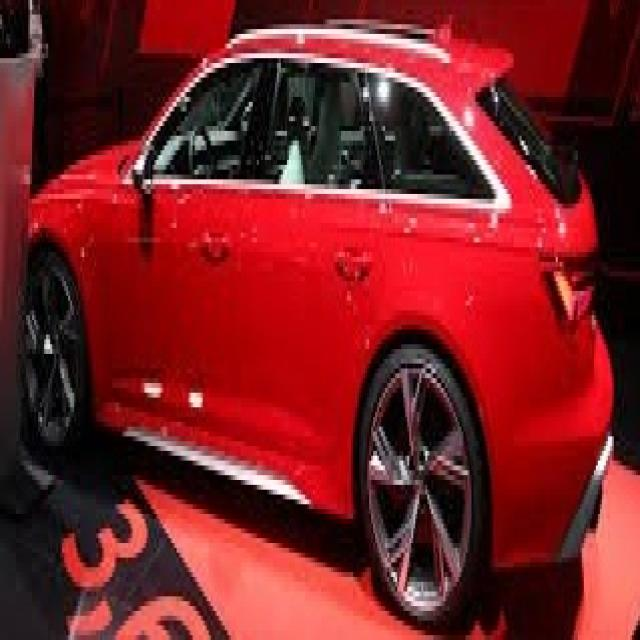red: (34, 35, 613, 583)
